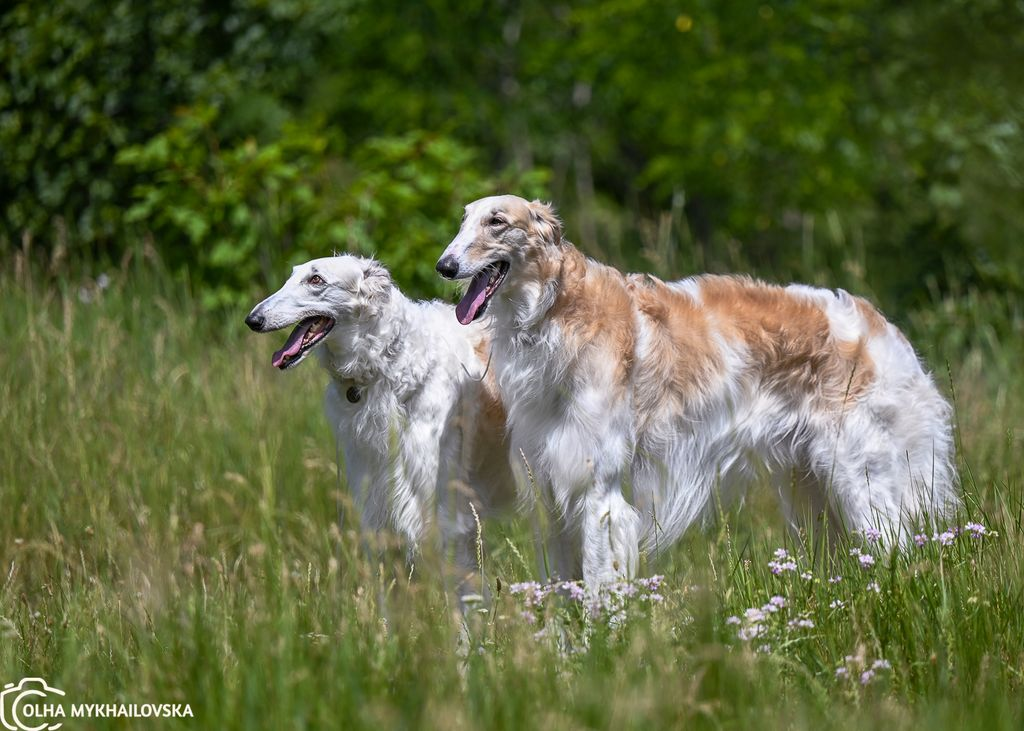borzoi: (429, 198, 967, 584), (226, 247, 528, 596)
